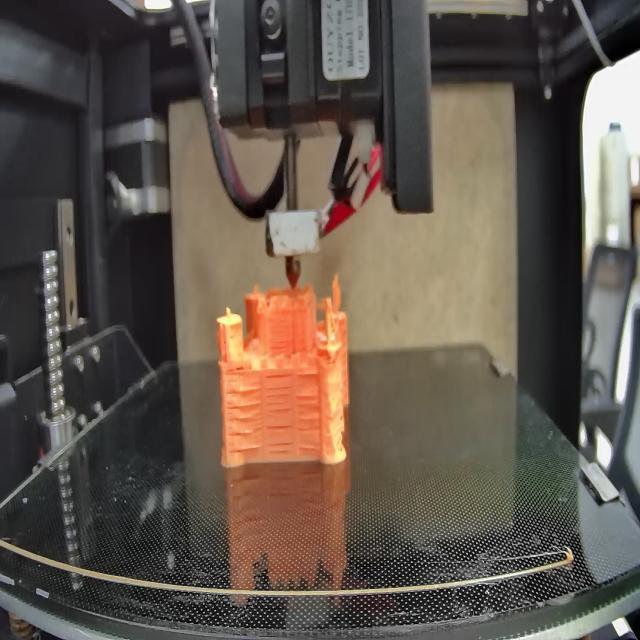cracks: (226, 387, 263, 450), (296, 392, 323, 452), (262, 373, 292, 413), (266, 419, 295, 454), (234, 360, 250, 373), (298, 372, 320, 379)
